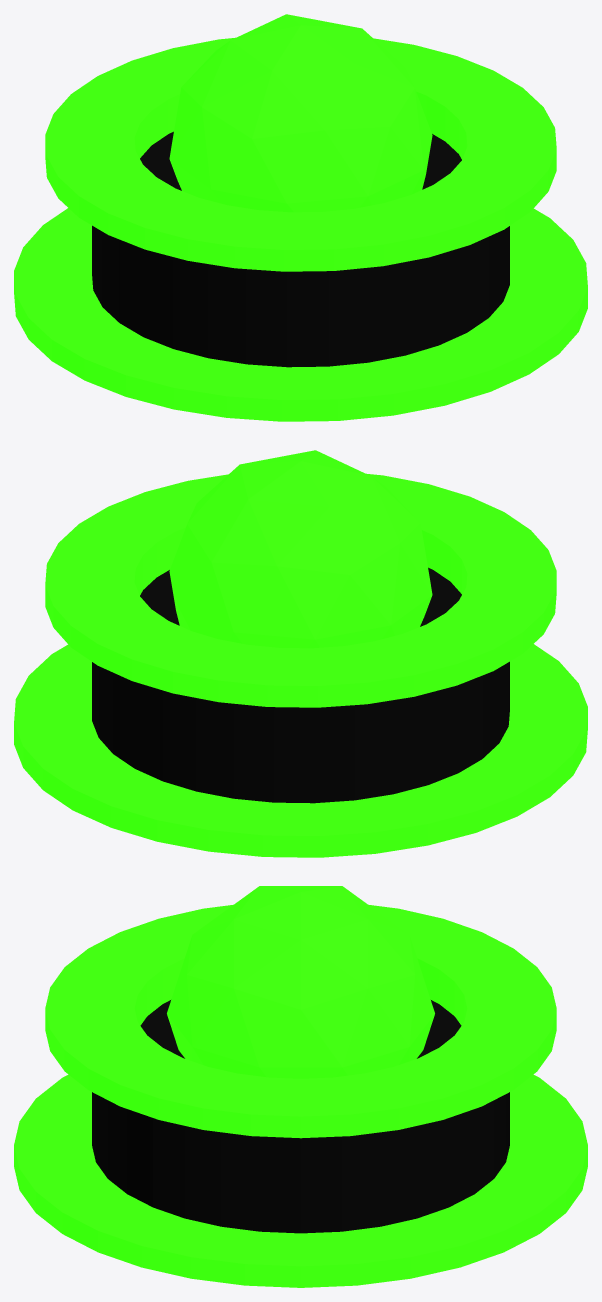
File: Bumper.fbx
The picture shows the model from 3 angles, top to bottom: view 1: azimuth 30°, elevation 25°; view 2: azimuth 150°, elevation 25°; view 3: azimuth 270°, elevation 25°; orthographic projection.
Visible parts, largest first — view 1: Cylinder.004; view 2: Cylinder.004; view 3: Cylinder.004.
Part boxes in pixels (bbox=[...]): Cylinder.004: bbox=[14, 14, 587, 421]; Cylinder.004: bbox=[14, 450, 587, 857]; Cylinder.004: bbox=[14, 886, 587, 1287].
Size of the model in its own units: 196 by 104 by 196.
